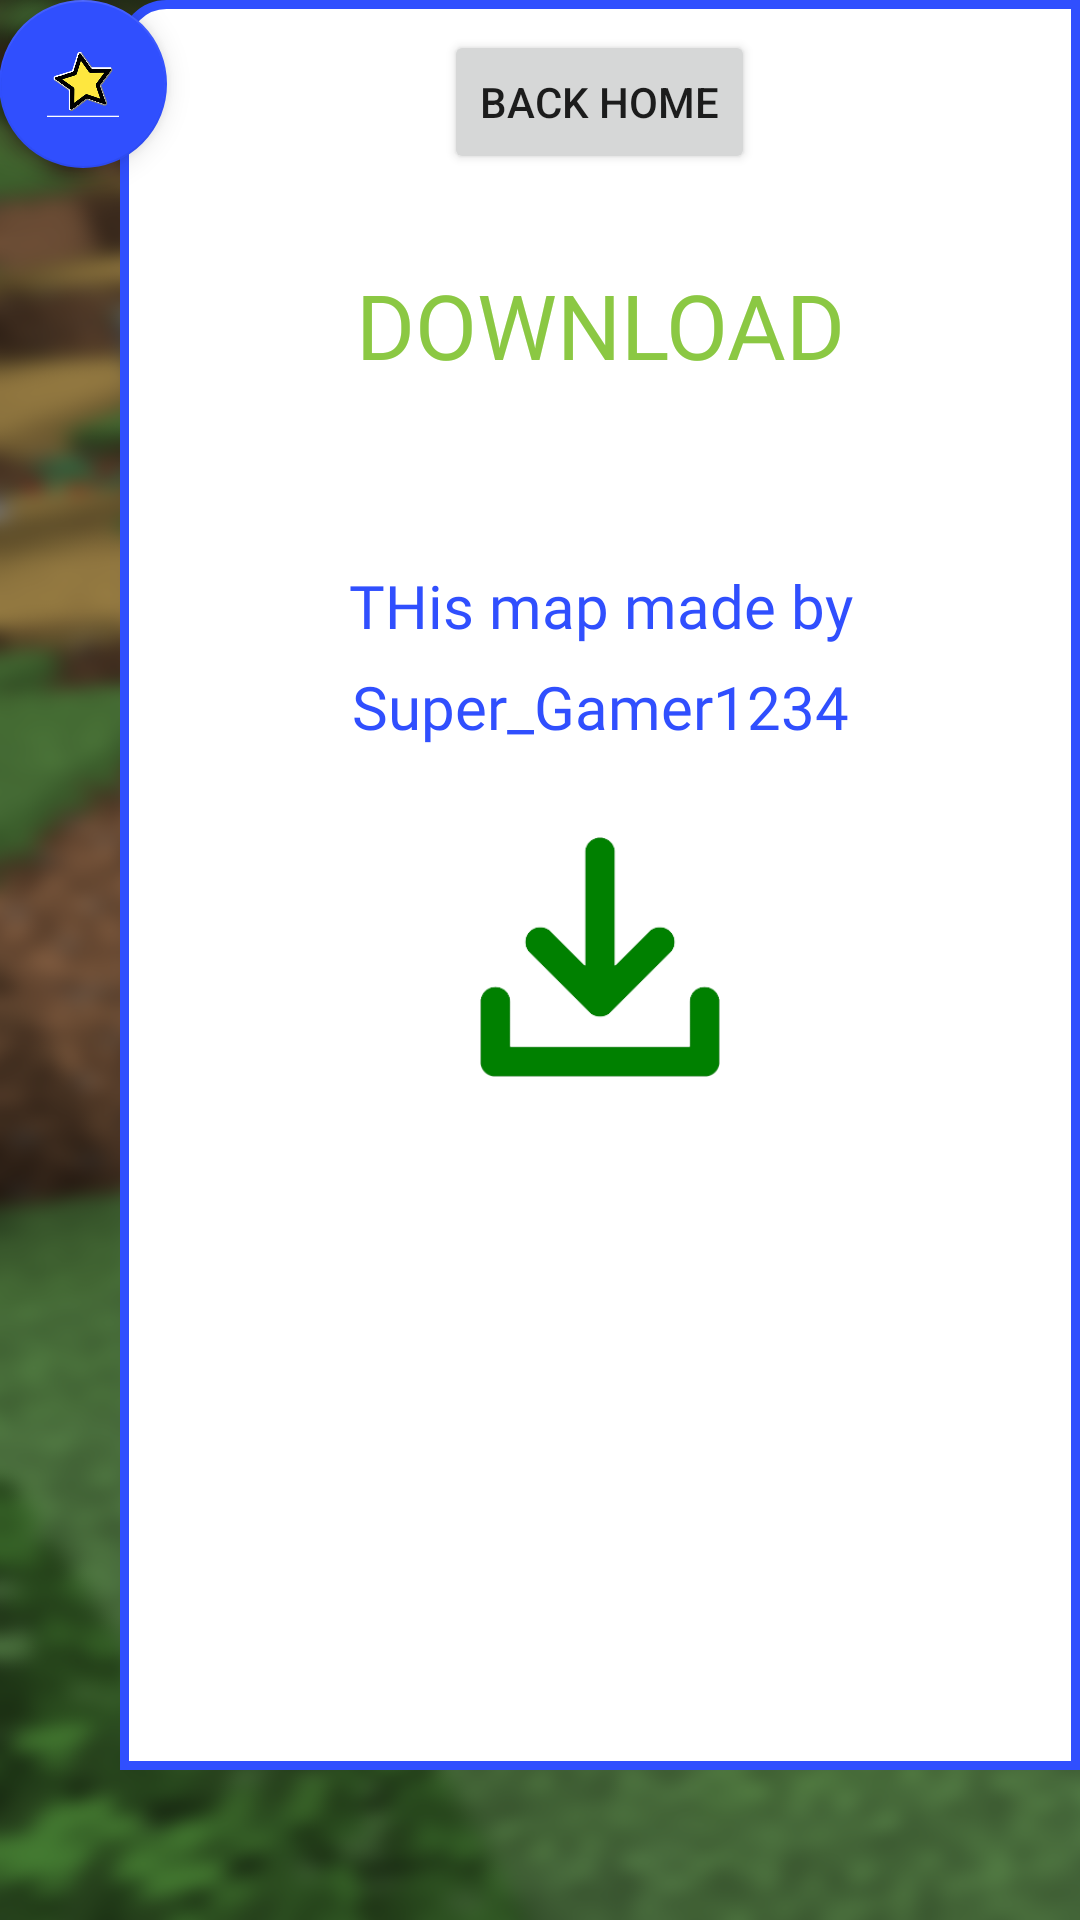

Screen size 1080×1920. Icon name, then its box in pixels as [left=x1, top=y1, right=x2, bottom=y2]:
download: [left=480, top=837, right=720, bottom=1077]
